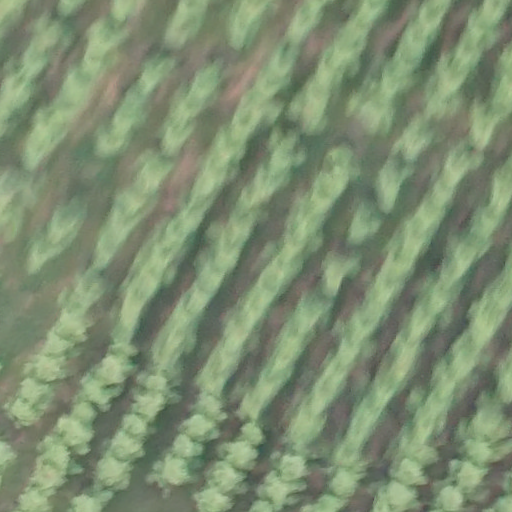eucalipto: (354, 82, 395, 132), (289, 92, 329, 138), (397, 118, 437, 163), (319, 250, 357, 297), (54, 415, 96, 455), (419, 82, 460, 121), (320, 143, 362, 181), (344, 204, 381, 247), (448, 457, 489, 495), (212, 122, 251, 161), (289, 292, 327, 332), (217, 437, 259, 473), (31, 17, 69, 56), (202, 463, 248, 494), (393, 435, 437, 467), (150, 456, 189, 492), (269, 126, 304, 166), (375, 481, 419, 512), (92, 462, 135, 493), (259, 472, 300, 504), (37, 441, 73, 477), (8, 397, 45, 431), (276, 322, 314, 355), (134, 53, 166, 92), (178, 416, 219, 446), (54, 313, 91, 346), (169, 91, 207, 123), (202, 149, 241, 180), (386, 459, 429, 487), (138, 153, 171, 189), (252, 162, 290, 193), (316, 49, 356, 78), (46, 208, 79, 243), (289, 2, 324, 35), (97, 351, 129, 387), (325, 466, 361, 498), (36, 102, 80, 128), (32, 350, 66, 383), (166, 14, 201, 46), (80, 375, 113, 408), (1, 81, 33, 115), (396, 23, 436, 50), (106, 436, 143, 465), (82, 33, 114, 65), (30, 466, 62, 498), (192, 393, 227, 422), (412, 1, 449, 28), (230, 104, 262, 135), (163, 215, 196, 245), (17, 377, 55, 403), (389, 45, 428, 70), (437, 59, 469, 89), (309, 176, 339, 208), (109, 108, 143, 136), (189, 491, 234, 512), (268, 44, 295, 79), (11, 486, 47, 512), (24, 239, 55, 269), (64, 69, 96, 98), (96, 131, 130, 158), (274, 453, 308, 480), (167, 433, 199, 460), (191, 67, 219, 97), (117, 187, 144, 218), (132, 393, 163, 420), (236, 423, 267, 450), (160, 123, 191, 148), (118, 413, 149, 438), (118, 86, 156, 106), (252, 73, 286, 95), (69, 398, 96, 425), (17, 53, 47, 77), (453, 46, 482, 70), (312, 492, 346, 512), (432, 489, 461, 512), (66, 494, 103, 512), (246, 499, 280, 512)
